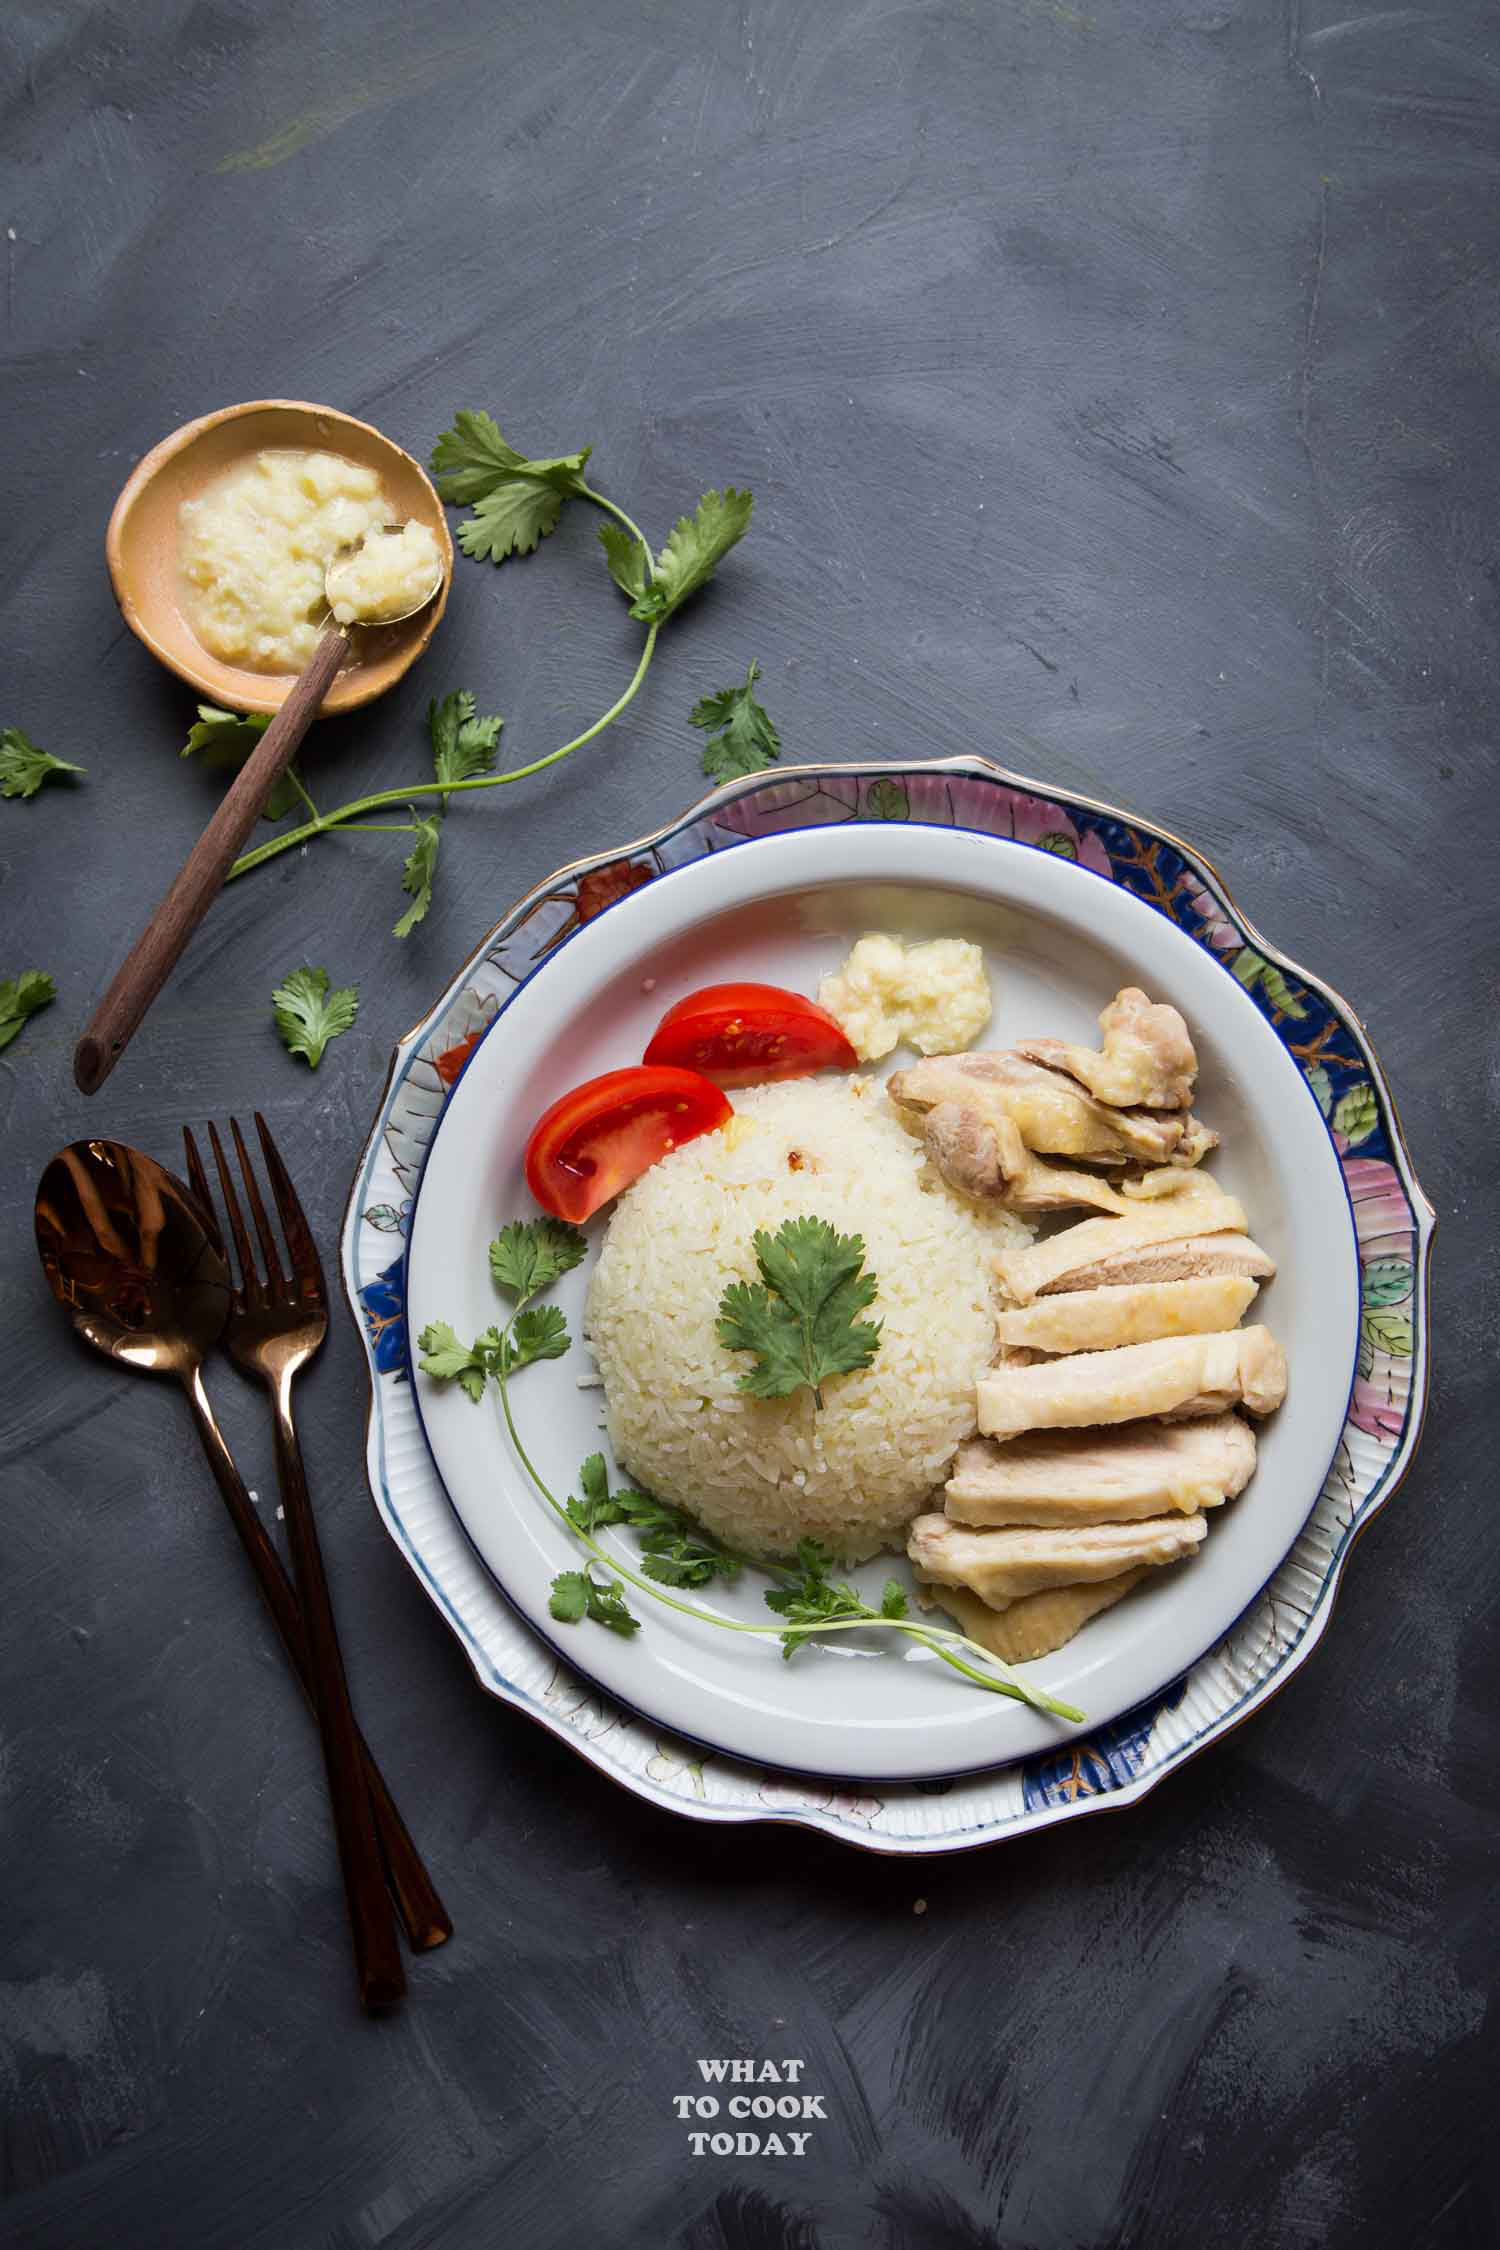Steamed Chicken Rice: (588, 979, 1302, 1681)
